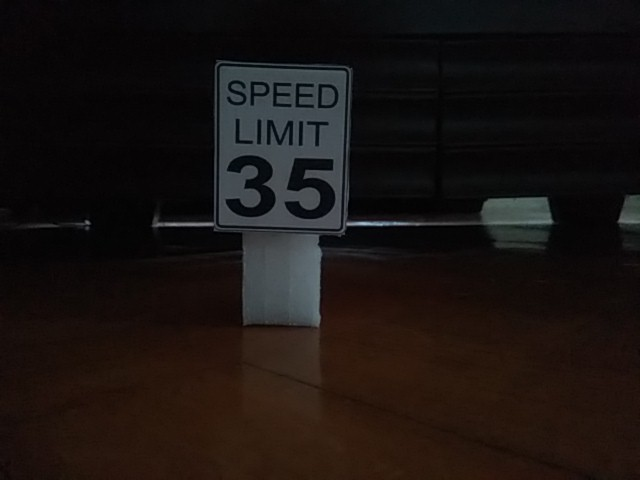Speed Limit 35: (214, 61, 355, 234)
